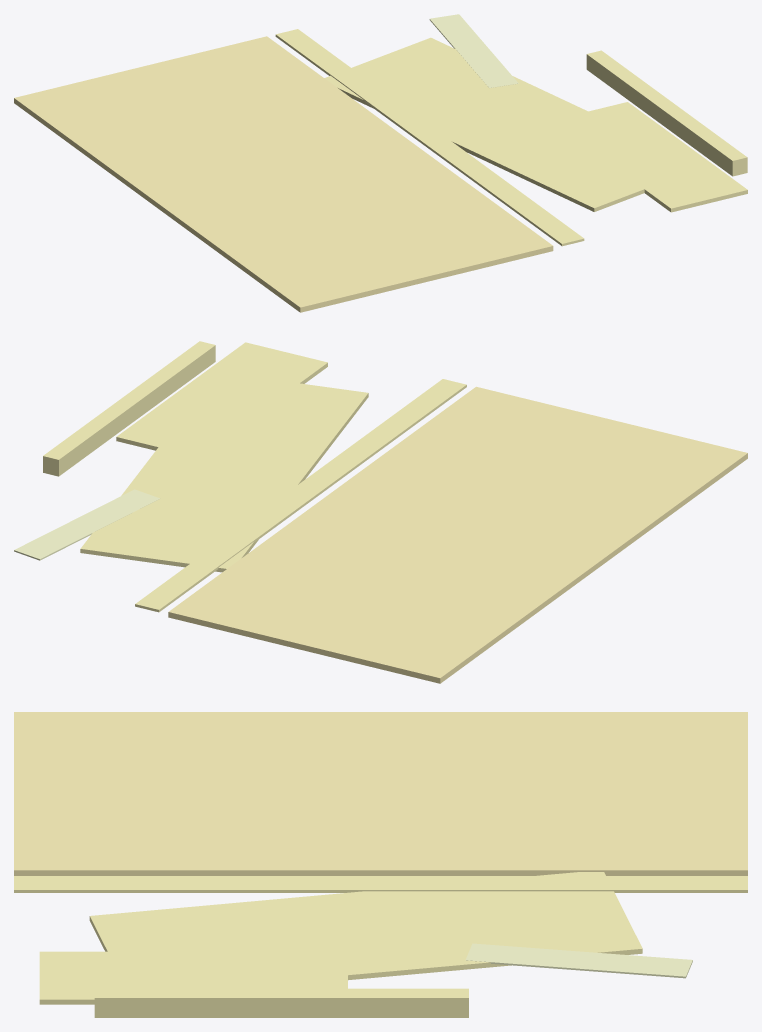
Rendered from road_alley_access_apron.glb.
3 views of the same model, one above another, from view 1: azimuth 30°, elevation 25°; view 2: azimuth 150°, elevation 25°; view 3: azimuth 270°, elevation 25° (orthographic). The views are drawn at different scales.
Visible parts, largest first — view 1: main_lane, alley_ramp, gutter_strip, access_throat, service_edge, driveway_break; view 2: main_lane, alley_ramp, gutter_strip, access_throat, service_edge, driveway_break; view 3: main_lane, alley_ramp, gutter_strip, service_edge, access_throat, driveway_break.
Boxes of the visible parts, <box> form: main_lane: <box>14,36,553,312</box>; alley_ramp: <box>324,37,704,211</box>; gutter_strip: <box>275,29,584,246</box>; access_throat: <box>588,102,747,212</box>; service_edge: <box>586,50,747,176</box>; driveway_break: <box>429,14,518,87</box>; main_lane: <box>168,386,747,683</box>; alley_ramp: <box>80,372,368,572</box>; gutter_strip: <box>135,379,466,612</box>; access_throat: <box>116,342,327,456</box>; service_edge: <box>43,341,215,476</box>; driveway_break: <box>14,489,160,560</box>; main_lane: <box>14,712,747,875</box>; alley_ramp: <box>89,872,642,988</box>; gutter_strip: <box>14,876,747,892</box>; service_edge: <box>94,988,468,1017</box>; access_throat: <box>39,951,347,1004</box>; driveway_break: <box>465,943,692,978</box>.
Bounding box in the file's own units: 3.86 × 0.12 × 4.
